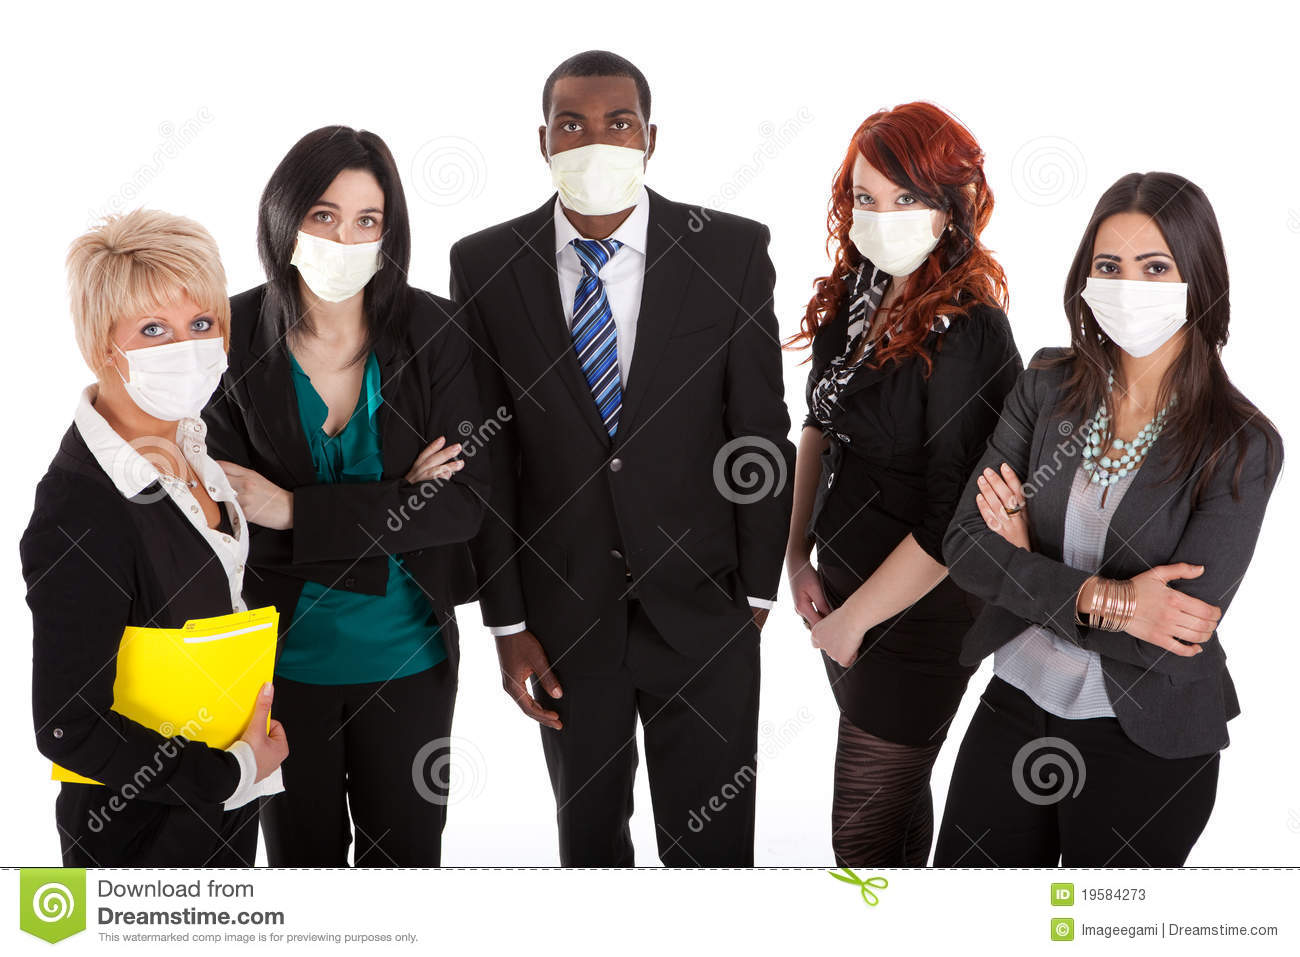mask: (124, 340, 229, 419), (1084, 278, 1189, 355), (549, 144, 645, 220), (848, 207, 940, 278), (291, 234, 378, 304)
